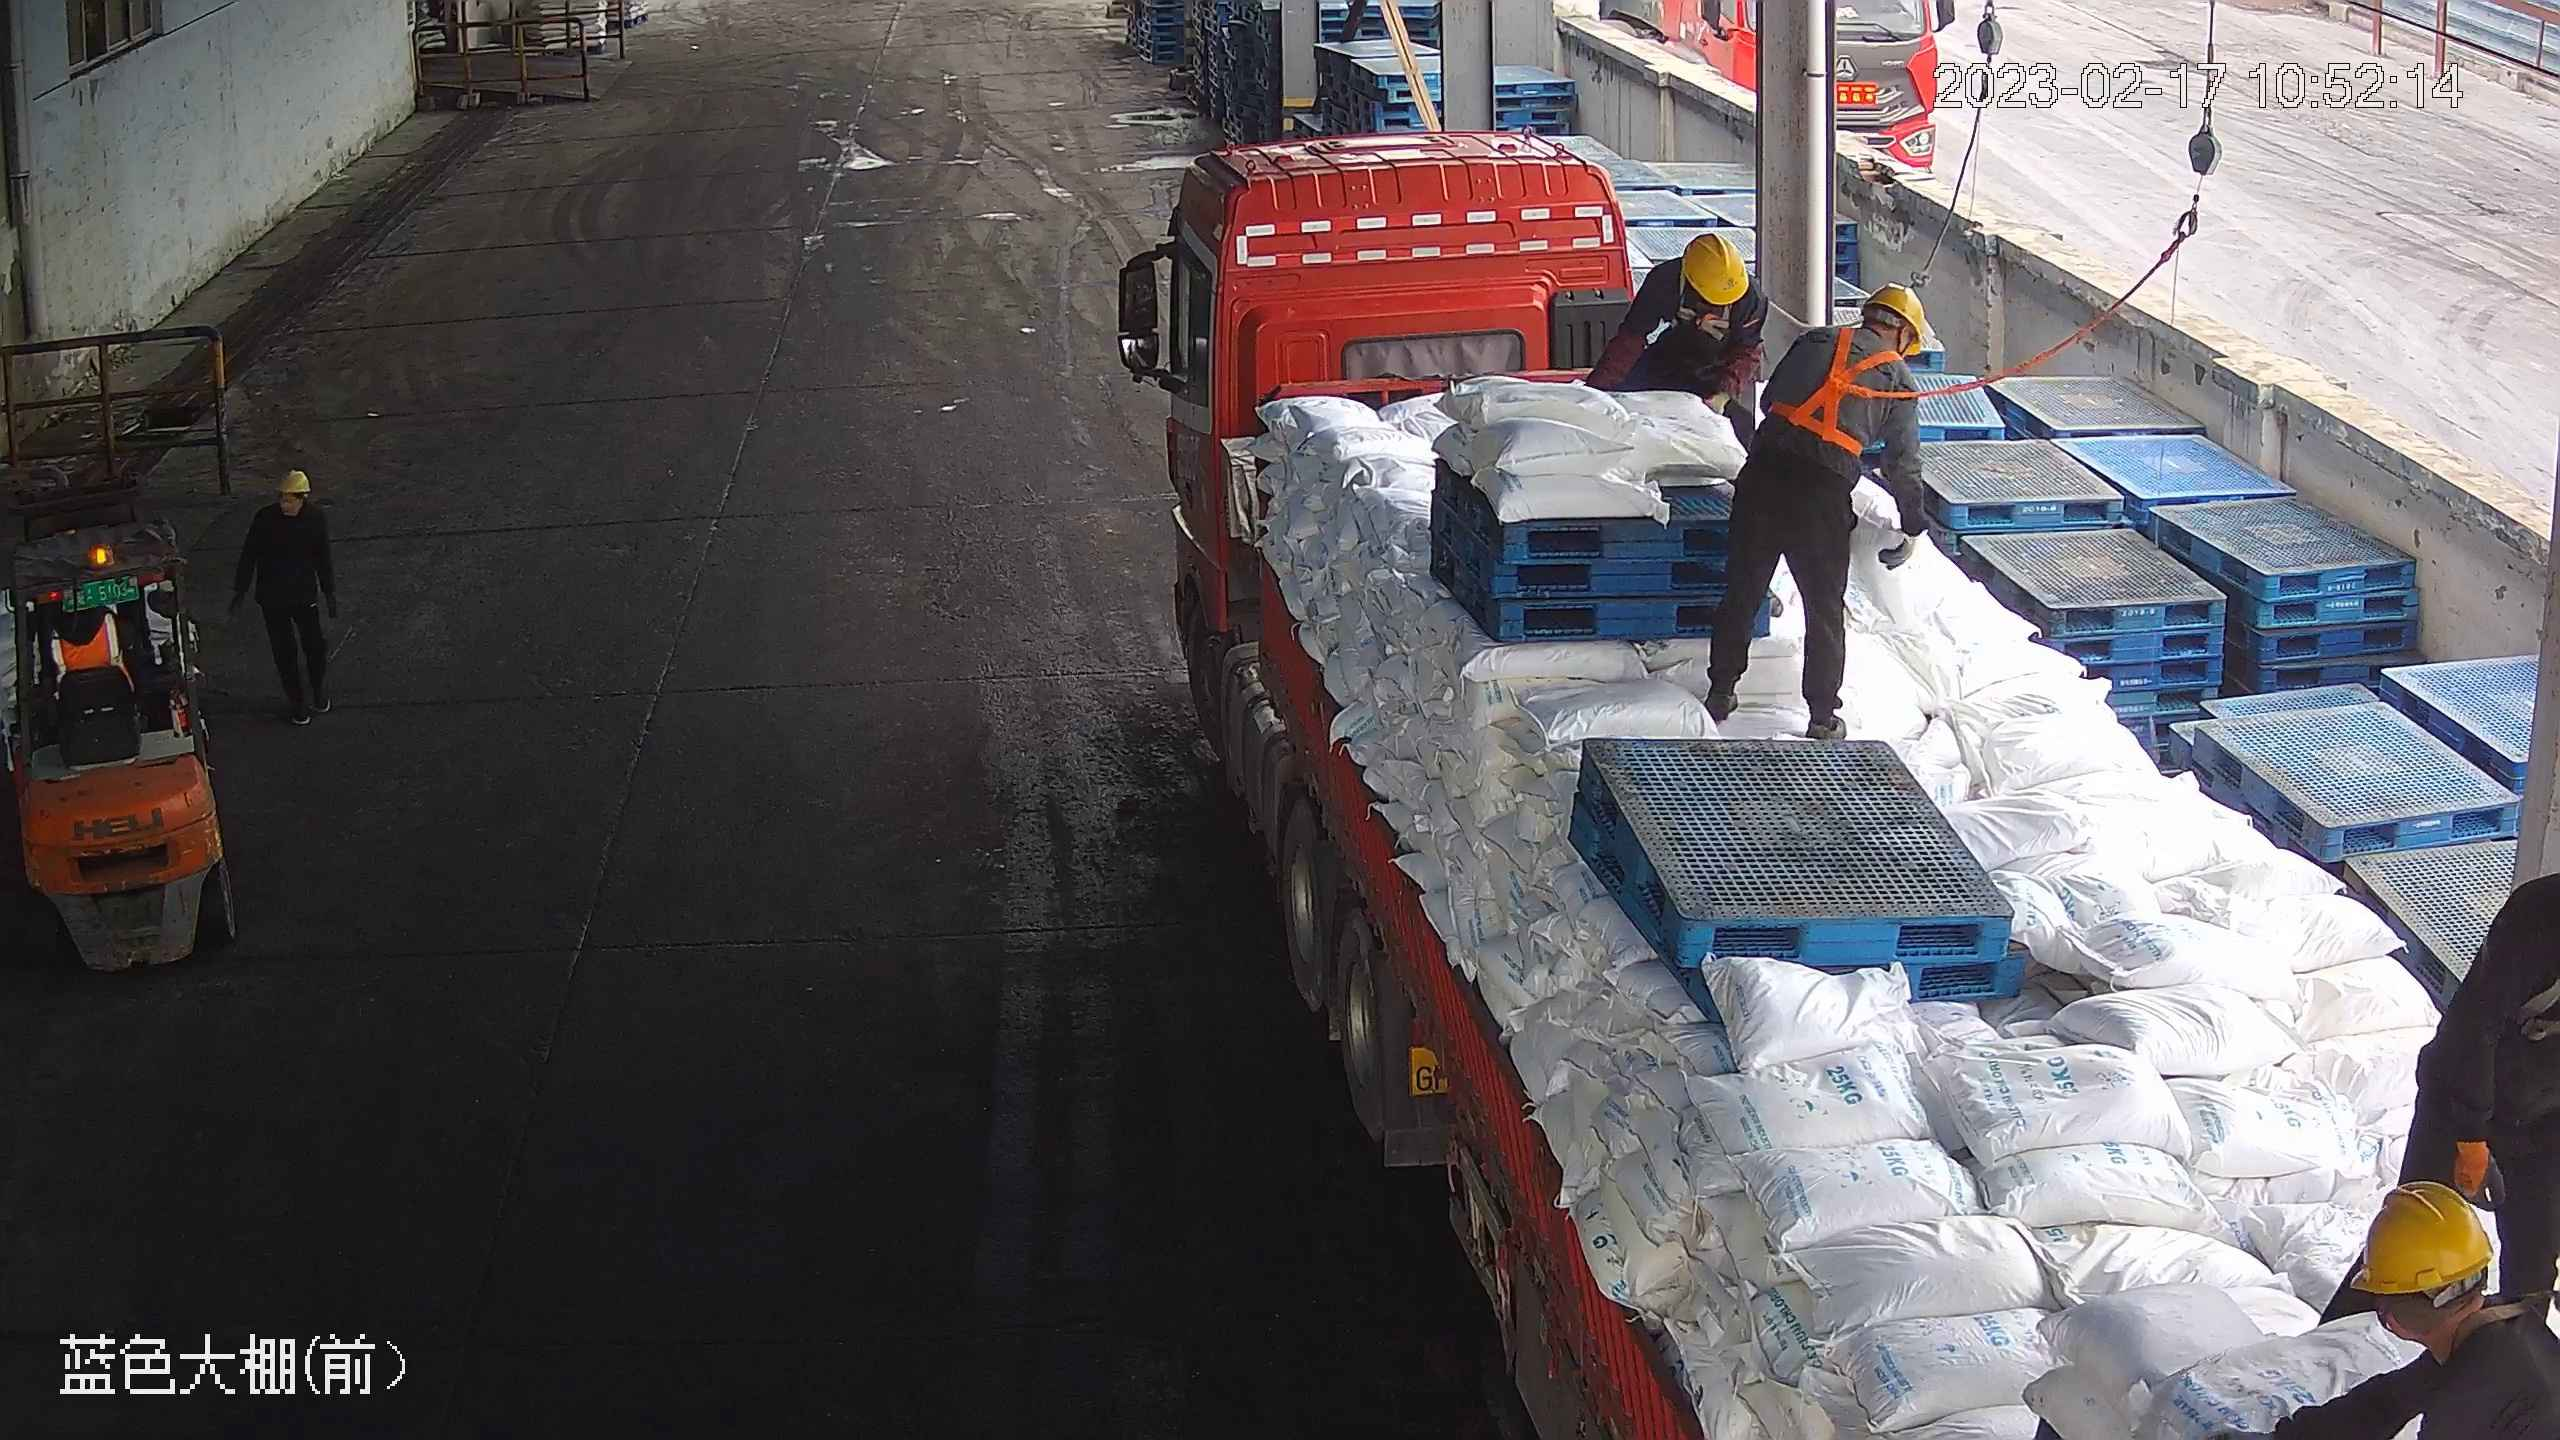belt: (1774, 328, 1897, 459), (2454, 1285, 2556, 1423), (1682, 274, 1744, 333)
head: (2337, 1177, 2559, 1404), (1773, 279, 1929, 408), (1638, 228, 1766, 331), (250, 468, 327, 545)
helmet: (2349, 1177, 2498, 1294), (1865, 278, 1930, 355), (1685, 232, 1752, 305), (279, 468, 311, 493)
people: (2319, 868, 2560, 1323), (1702, 276, 1932, 739), (230, 466, 341, 729)
truck: (1113, 119, 2556, 1440)
